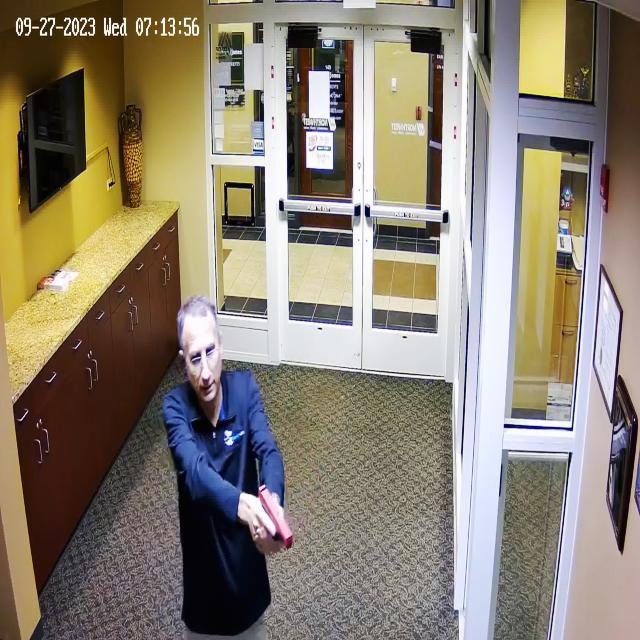Gun: (249, 477, 295, 556)
